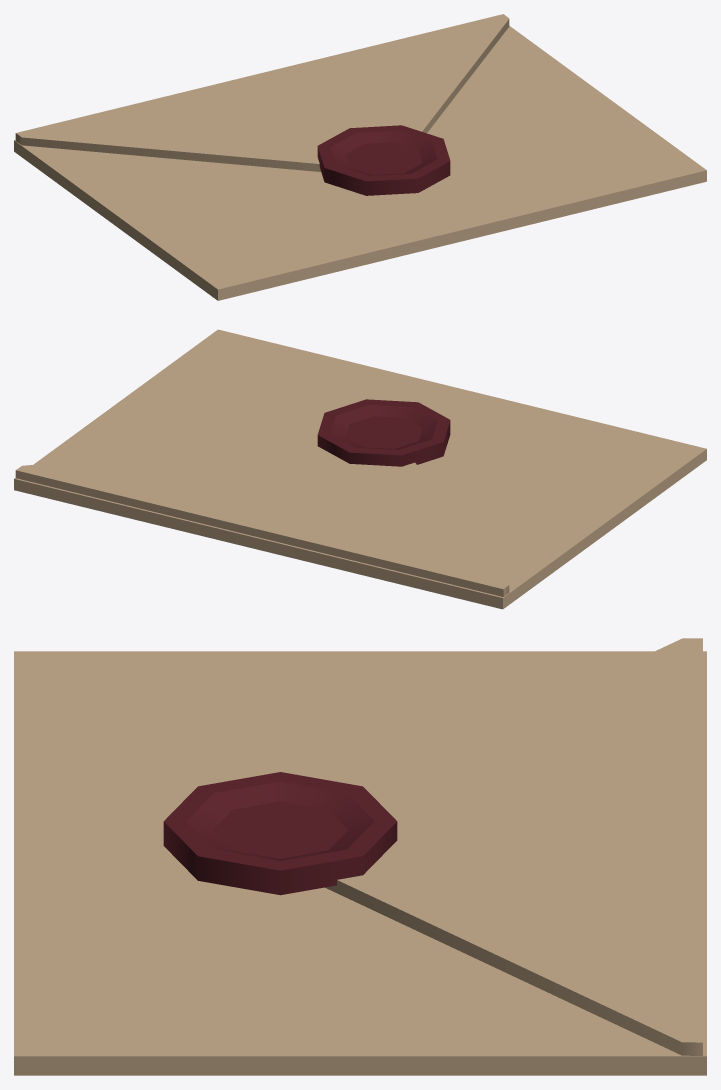
The model's file is Letter_01.fbx.
3 renders of one model, top to bottom at view 1: azimuth 30°, elevation 25°; view 2: azimuth 150°, elevation 25°; view 3: azimuth 270°, elevation 25°, orthographic. The views are drawn at different scales.
Parts seen in each view (by area): view 1: Letter_01; view 2: Letter_01; view 3: Letter_01.
Part boxes in pixels (x1,y1,x2,y2): Letter_01: (14, 14, 706, 300); Letter_01: (14, 329, 706, 609); Letter_01: (14, 638, 706, 1075).
Bounding box in the file's own units: 0.1866 × 0.0111 × 0.1349.
